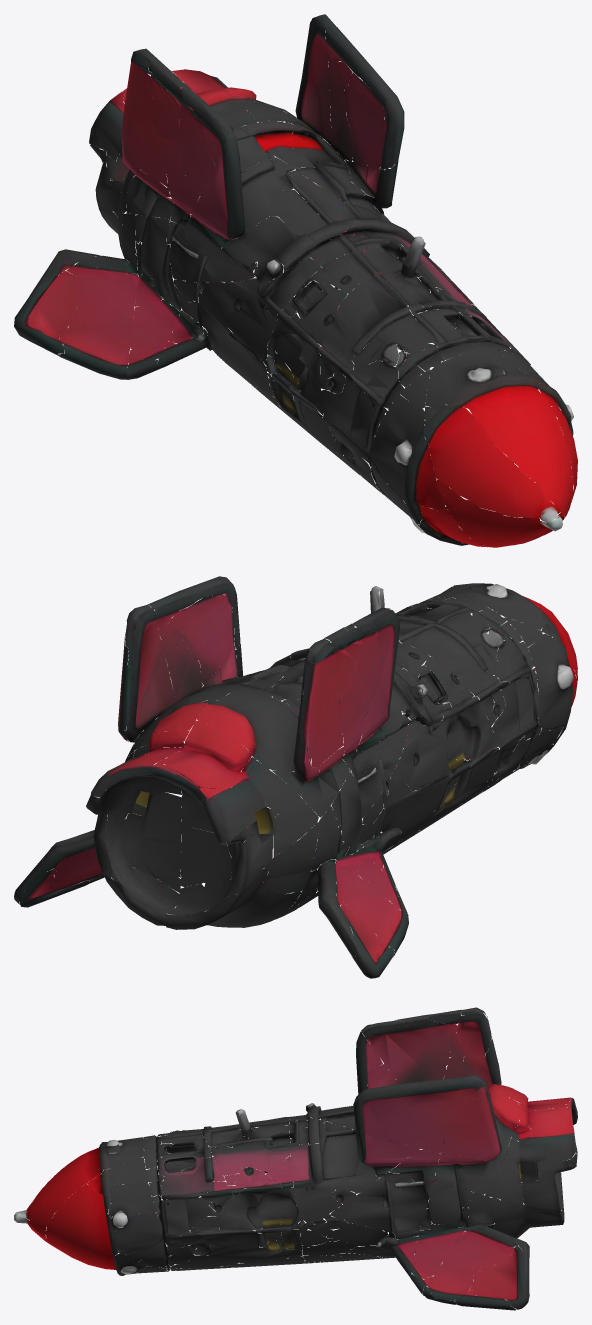
The model's file is rocket.glb.
The picture shows the model from 3 angles, top to bottom: view 1: azimuth 30°, elevation 25°; view 2: azimuth 150°, elevation 25°; view 3: azimuth 270°, elevation 25°; orthographic projection. The views are drawn at different scales.
Parts seen in each view (by area): view 1: TroyRocket; view 2: TroyRocket; view 3: TroyRocket.
Part boxes in pixels (<box>): TroyRocket: <box>14,14,577,547</box>; TroyRocket: <box>14,576,577,978</box>; TroyRocket: <box>14,1007,577,1310</box>.
Bounding box in the file's own units: 0.508 × 0.4473 × 0.9791.
Materials: 1 (1 with a texture image).
